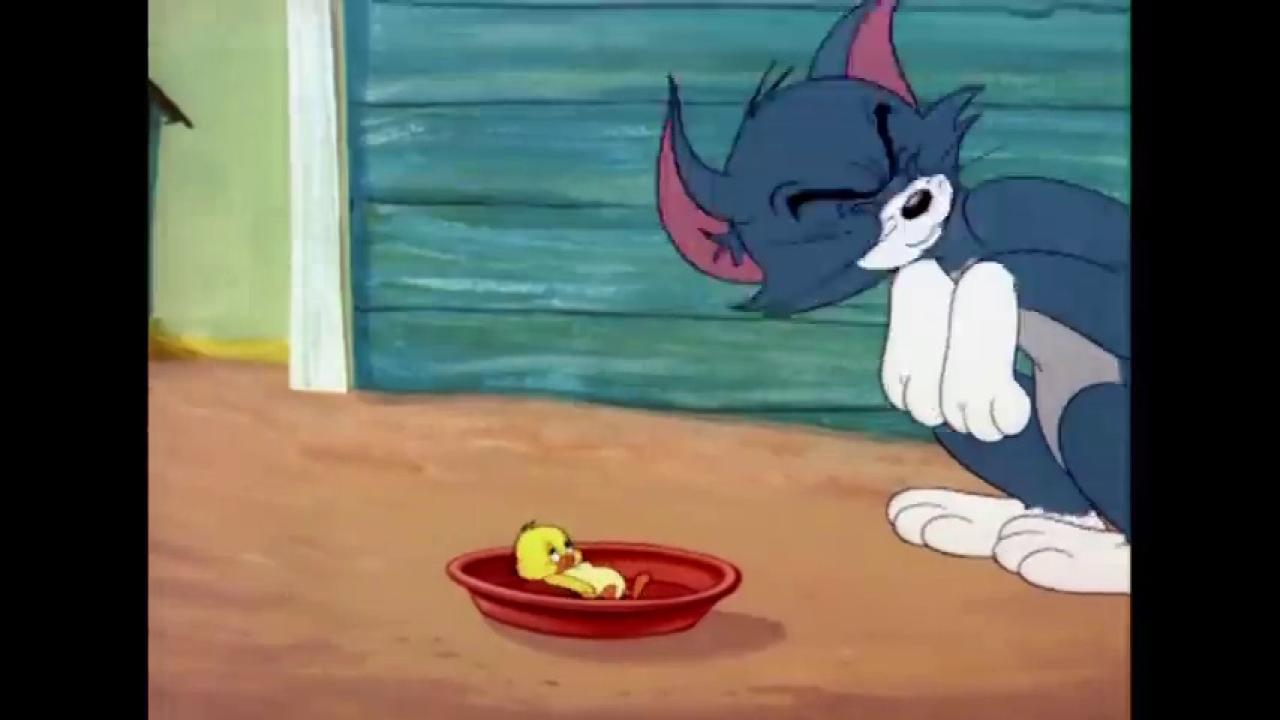Tom: (649, 0, 1129, 594)
